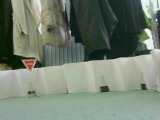stop: (21, 58, 37, 73)
